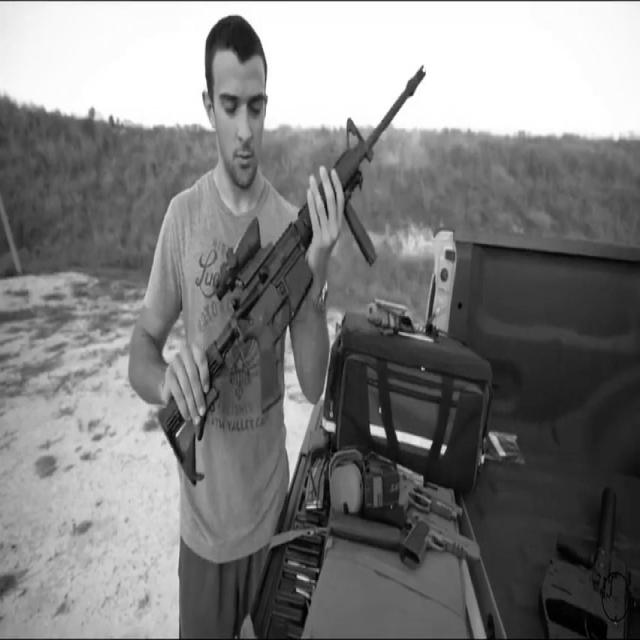Sub-machine-gun: (159, 52, 426, 572)
